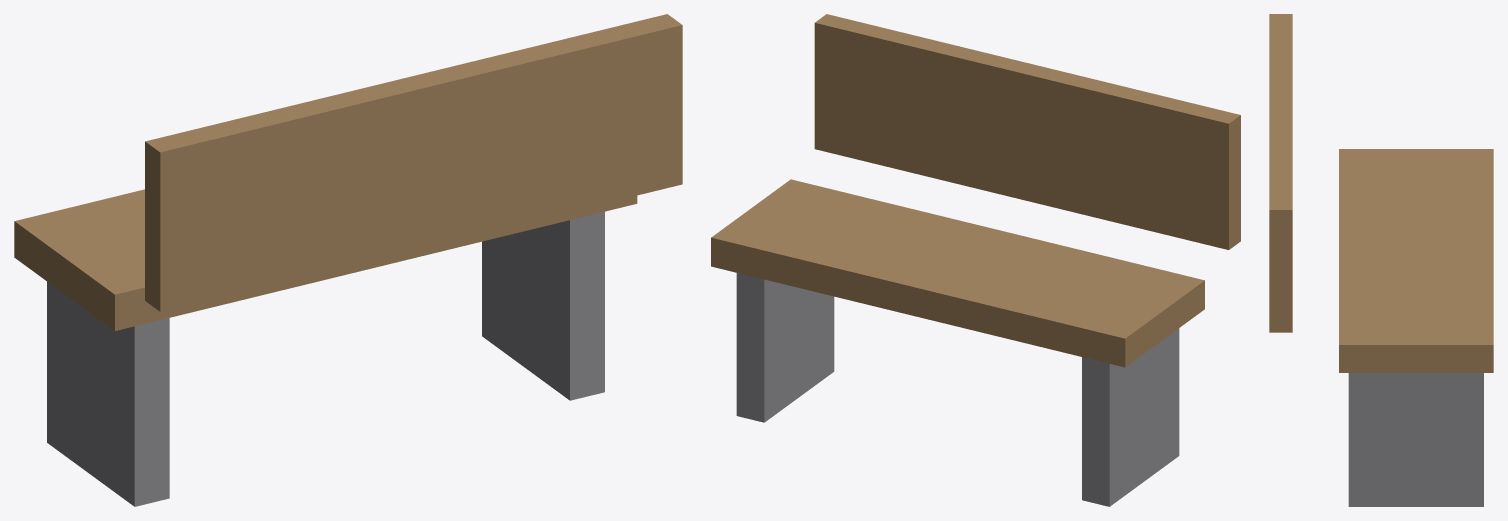
File: bench.glb
The picture shows the model from 3 angles, left to right: view 1: azimuth 30°, elevation 25°; view 2: azimuth 150°, elevation 25°; view 3: azimuth 270°, elevation 25°; orthographic projection. The views are drawn at different scales.
Visible parts, largest first — view 1: bench; view 2: bench; view 3: bench.
Boxes of the visible parts, <box> form: bench: <box>14,14,682,506</box>; bench: <box>711,14,1240,506</box>; bench: <box>1269,14,1493,506</box>.
Bounding box in the file's own units: 1.2 × 0.875 × 0.58.
